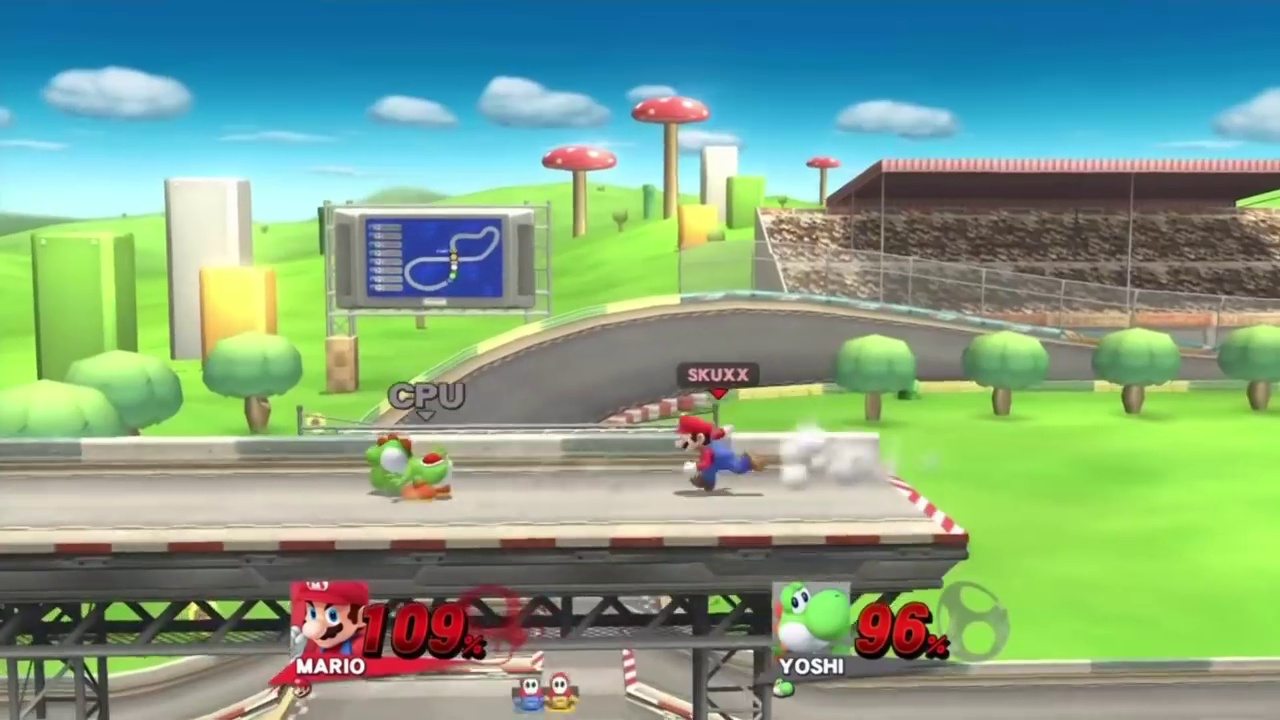Mario: (672, 413, 768, 496)
